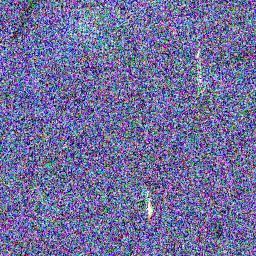Ship: (141, 198, 158, 217), (192, 46, 206, 61)
